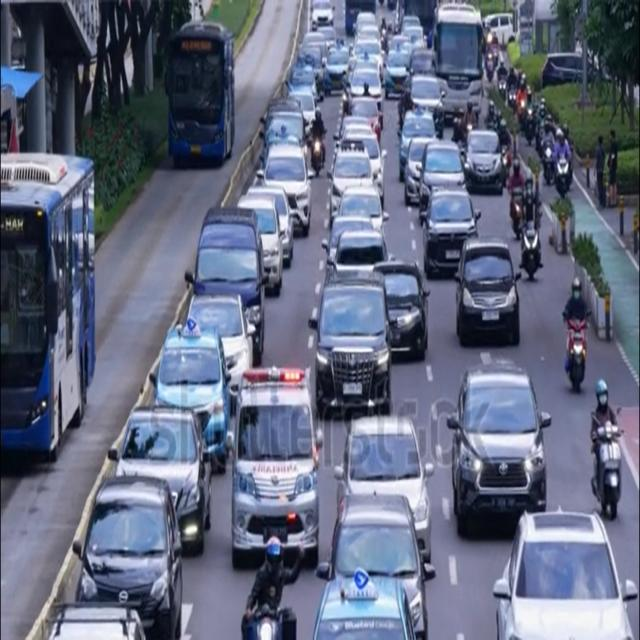Ambulance: (227, 362, 324, 577)
